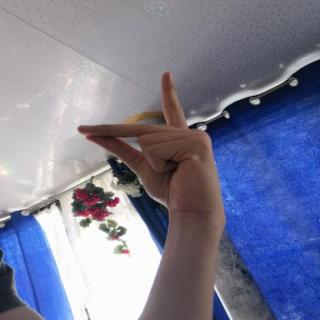TAA: (68, 64, 233, 221)
